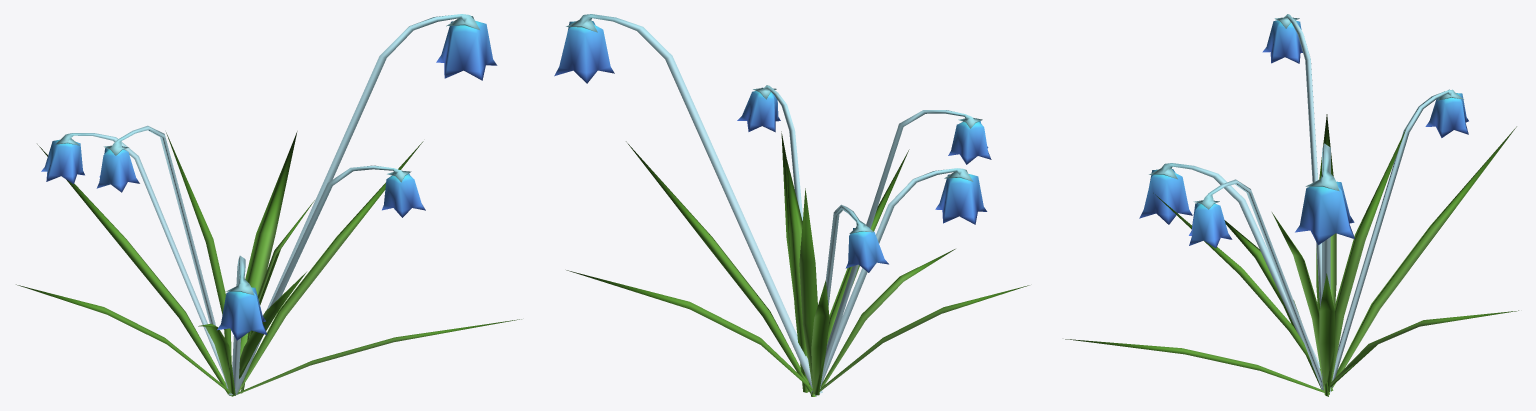
3 views of the same model, side by side, from view 1: azimuth 30°, elevation 25°; view 2: azimuth 150°, elevation 25°; view 3: azimuth 270°, elevation 25° (orthographic). The views are drawn at different scales.
Parts seen in each view (by area): view 1: fp09; view 2: fp09; view 3: fp09.
Part boxes in pixels (x1,y1,x2,y2): fp09: [16, 14, 521, 396]; fp09: [554, 14, 1029, 396]; fp09: [1065, 14, 1518, 396].
Bounding box in the file's own units: 104 × 68.47 × 83.87.
